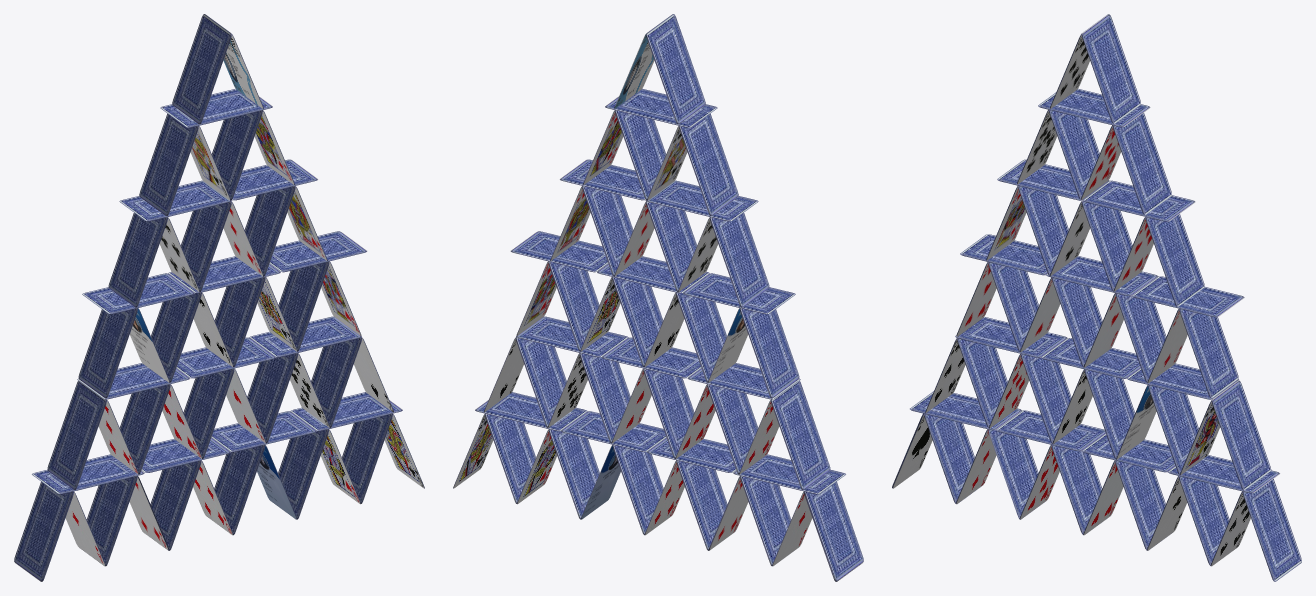
The model's file is Castle_Full.fbx.
3 views of the same model, side by side, from view 1: azimuth 30°, elevation 25°; view 2: azimuth 150°, elevation 25°; view 3: azimuth 330°, elevation 25° (orthographic).
Parts seen in each view (by area): view 1: Castle; view 2: Castle; view 3: Castle.
Boxes of the visible parts, left/top/right/bottom form: Castle: left=14, top=14, right=424, bottom=581; Castle: left=453, top=14, right=863, bottom=581; Castle: left=892, top=14, right=1301, bottom=581.
Bounding box in the file's own units: 1547 × 1937 × 200.
6 materials, 6 textured.
